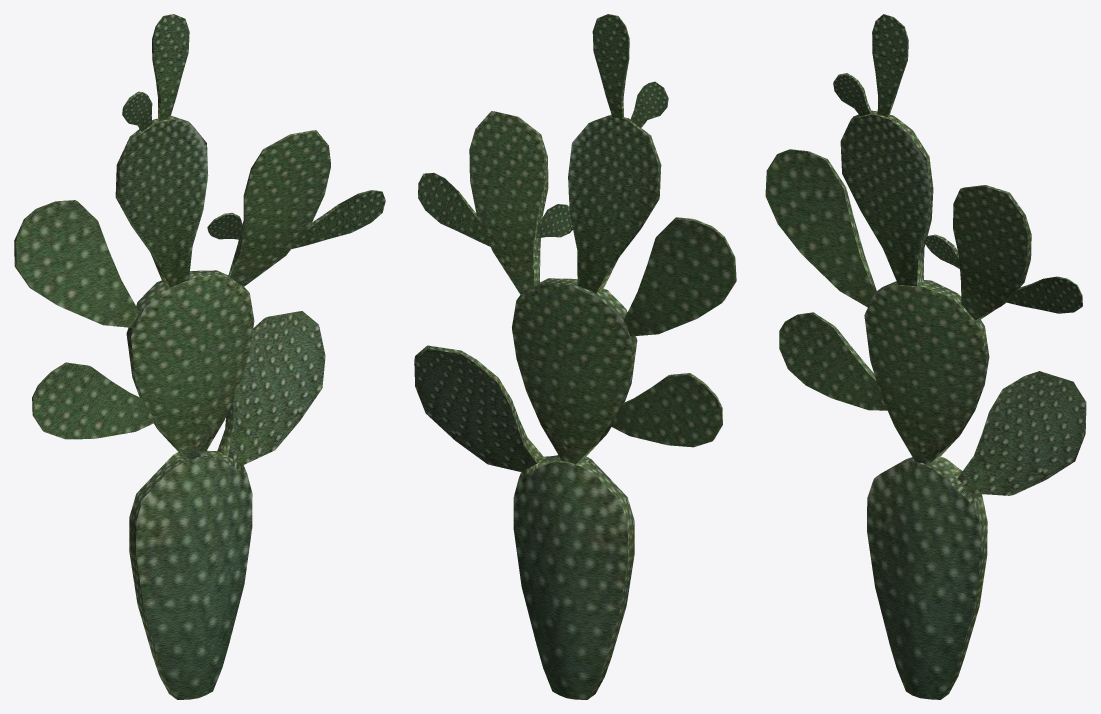
Rendered from Prickly_Pear_2.FBX.
The picture shows the model from 3 angles, left to right: view 1: azimuth 30°, elevation 25°; view 2: azimuth 150°, elevation 25°; view 3: azimuth 330°, elevation 25°; orthographic projection. The views are drawn at different scales.
Visible parts, largest first — view 1: Prickly_Pear_2; view 2: Prickly_Pear_2; view 3: Prickly_Pear_2.
Boxes of the visible parts, box(x1,y1,x2,y2) form: Prickly_Pear_2: box(14, 14, 385, 699); Prickly_Pear_2: box(414, 14, 736, 699); Prickly_Pear_2: box(765, 14, 1086, 699).
Size of the model in its own units: 46 by 87.77 by 9.75.
